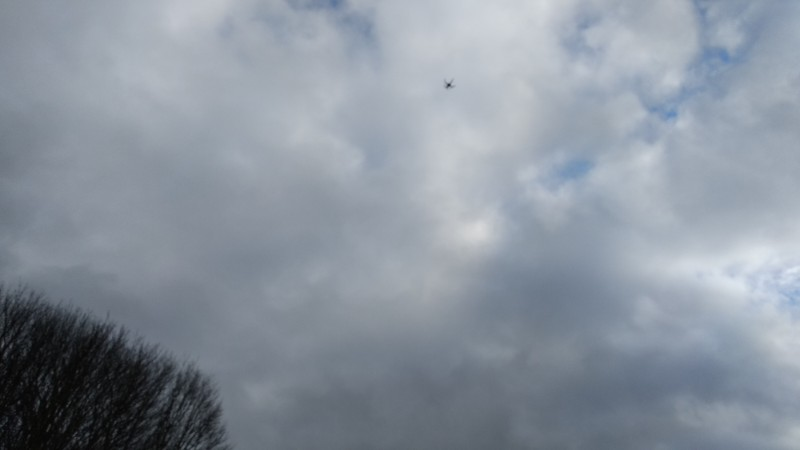drone: (442, 78, 454, 88)
